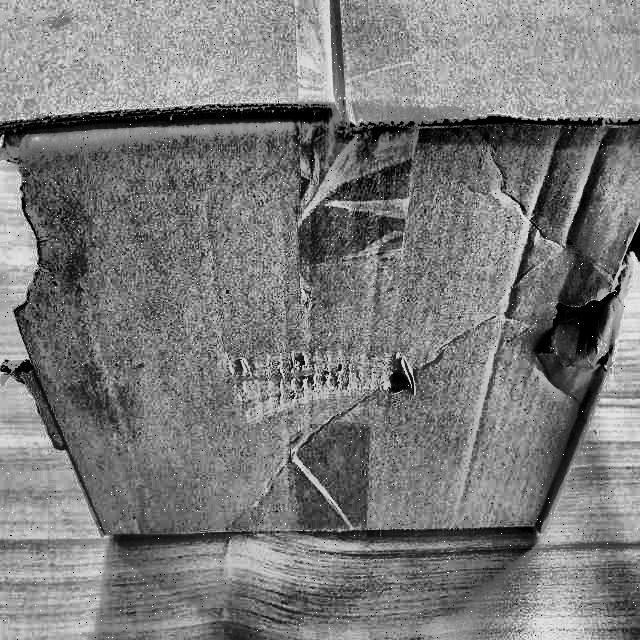box: (0, 0, 639, 550)
hole: (537, 266, 619, 408), (0, 120, 44, 359), (374, 354, 444, 414)
